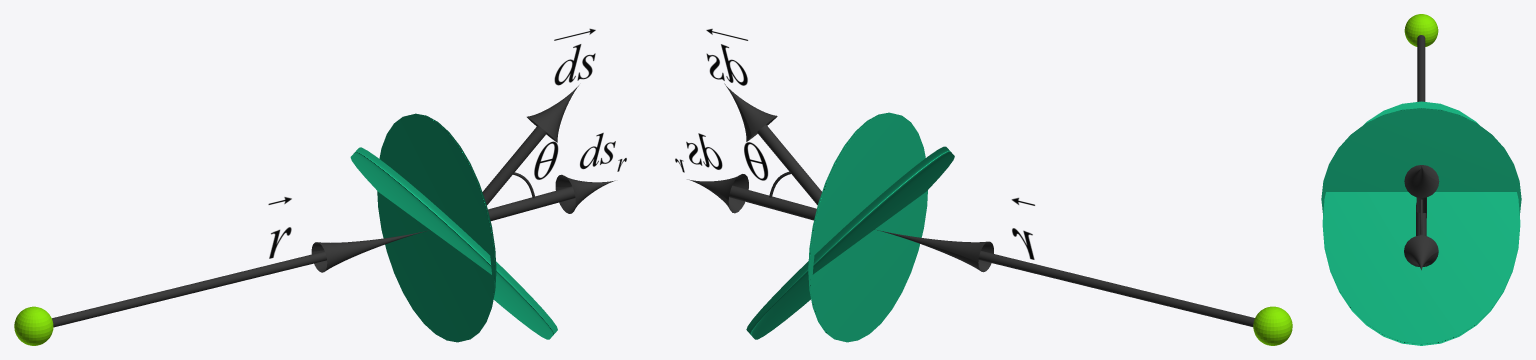
File: 17_Gauss law proof.glb
The picture shows the model from 3 angles, left to right: view 1: azimuth 30°, elevation 25°; view 2: azimuth 150°, elevation 25°; view 3: azimuth 270°, elevation 25°; orthographic projection. The views are drawn at different scales.
Visible parts, largest first — view 1: Cylinder.001, Cylinder, Cylinder.002, Cylinder.003, Cylinder.004, Sphere, Shape_1_Object 3; view 2: Cylinder.001, Cylinder, Cylinder.002, Cylinder.003, Cylinder.004, Sphere, Shape_1_Object 3; view 3: Cylinder, Cylinder.001, Cylinder.004, Cylinder.003, Sphere, Cylinder.002.
Part boxes in pixels (x1,y1,x2,y2): Cylinder.001: [377, 113, 496, 342]; Cylinder: [350, 147, 557, 339]; Cylinder.002: [52, 230, 430, 327]; Cylinder.003: [482, 85, 578, 204]; Cylinder.004: [488, 174, 615, 220]; Sphere: [14, 306, 53, 345]; Shape_1_Object 3: [554, 28, 595, 85]; Cylinder.001: [808, 112, 927, 342]; Cylinder: [746, 146, 954, 339]; Cylinder.002: [874, 229, 1254, 326]; Cylinder.003: [724, 83, 821, 204]; Cylinder.004: [687, 174, 816, 220]; Sphere: [1253, 306, 1292, 345]; Shape_1_Object 3: [706, 29, 747, 85]; Cylinder: [1322, 101, 1520, 345]; Cylinder.001: [1321, 108, 1521, 215]; Cylinder.004: [1404, 203, 1438, 270]; Cylinder.003: [1404, 165, 1439, 217]; Sphere: [1404, 14, 1438, 46]; Cylinder.002: [1417, 35, 1425, 101].
Size of the model in its own units: 4.91 by 2.24 by 1.6.
Materials: 10 (4 with a texture image).
